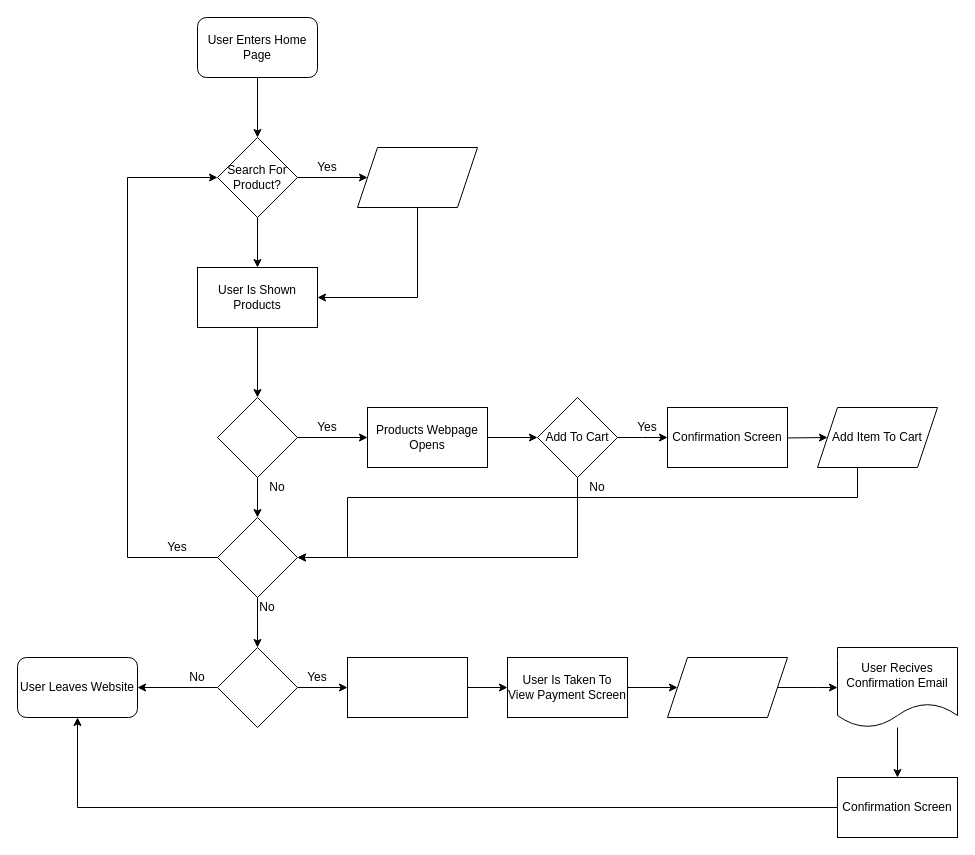
The diagram is 975 pixels wide and 855 high, and some of its shapes have lost their labels. The shapes that lost their labels are listed below. From the top down, each one's centre as x and y in pixels, then its label:
At pixel 417 177: "User Searchs For Specfic Product".
At pixel 257 437: "View Prodcut".
At pixel 257 557: "Countinue Shoping".
At pixel 407 687: "User Is Taken To View Cart Screen".
At pixel 727 687: "User Gives Payment Info".
